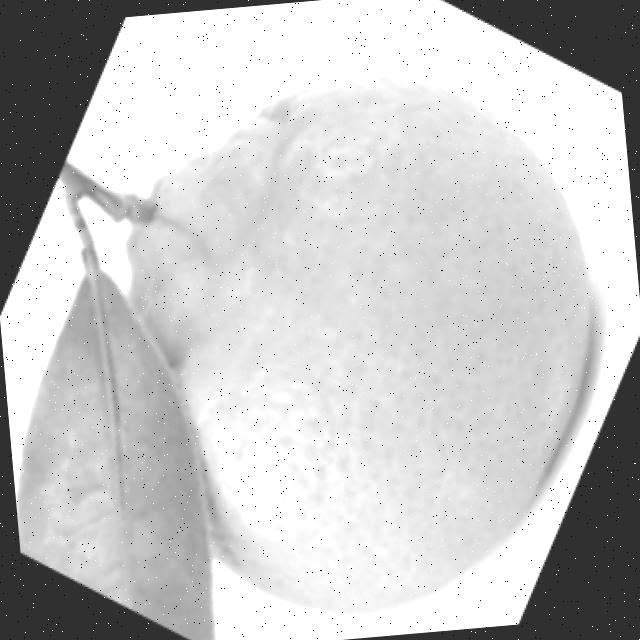orange: (107, 42, 620, 633)
